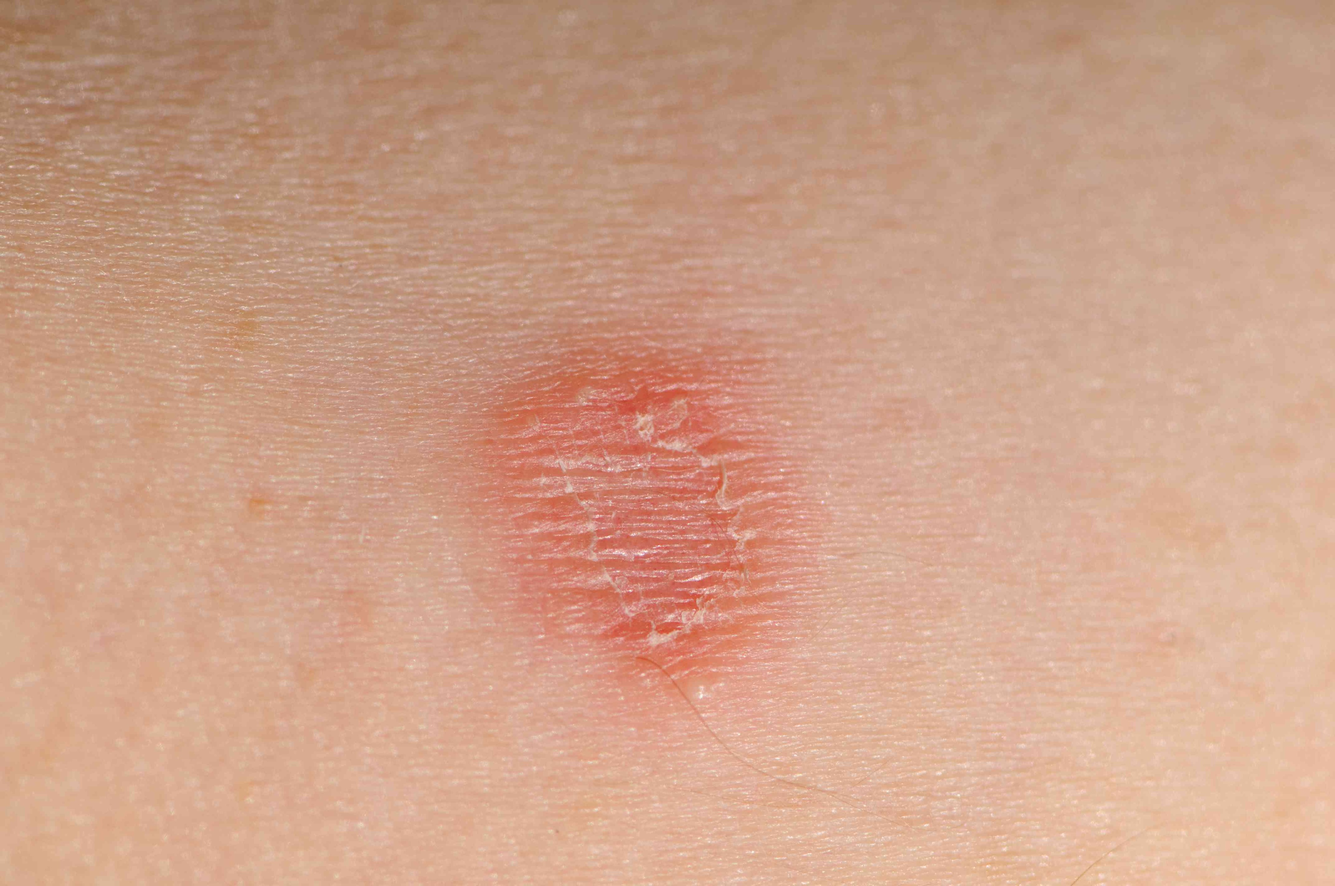Ringworm: (417, 330, 841, 697)
